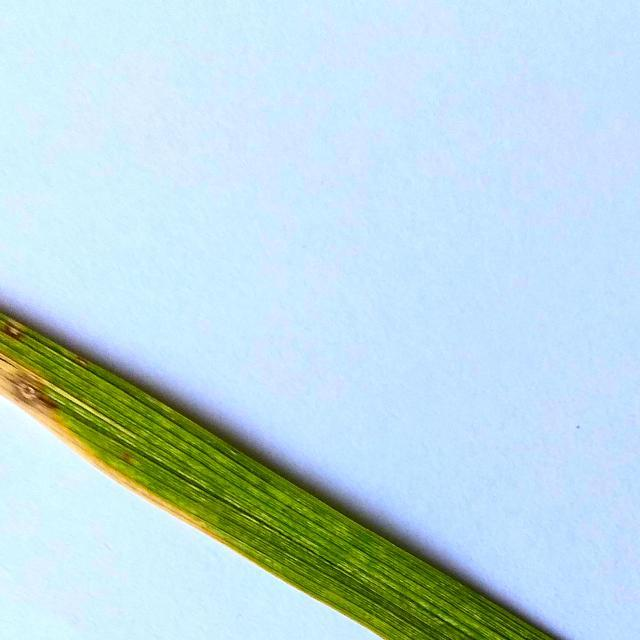Blast: (16, 376, 52, 408), (5, 325, 26, 338)
